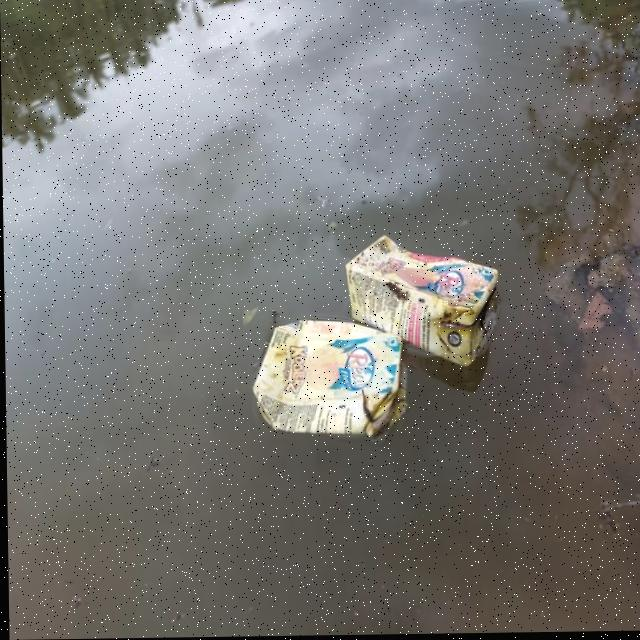paper: (245, 317, 412, 476), (336, 228, 507, 379)
